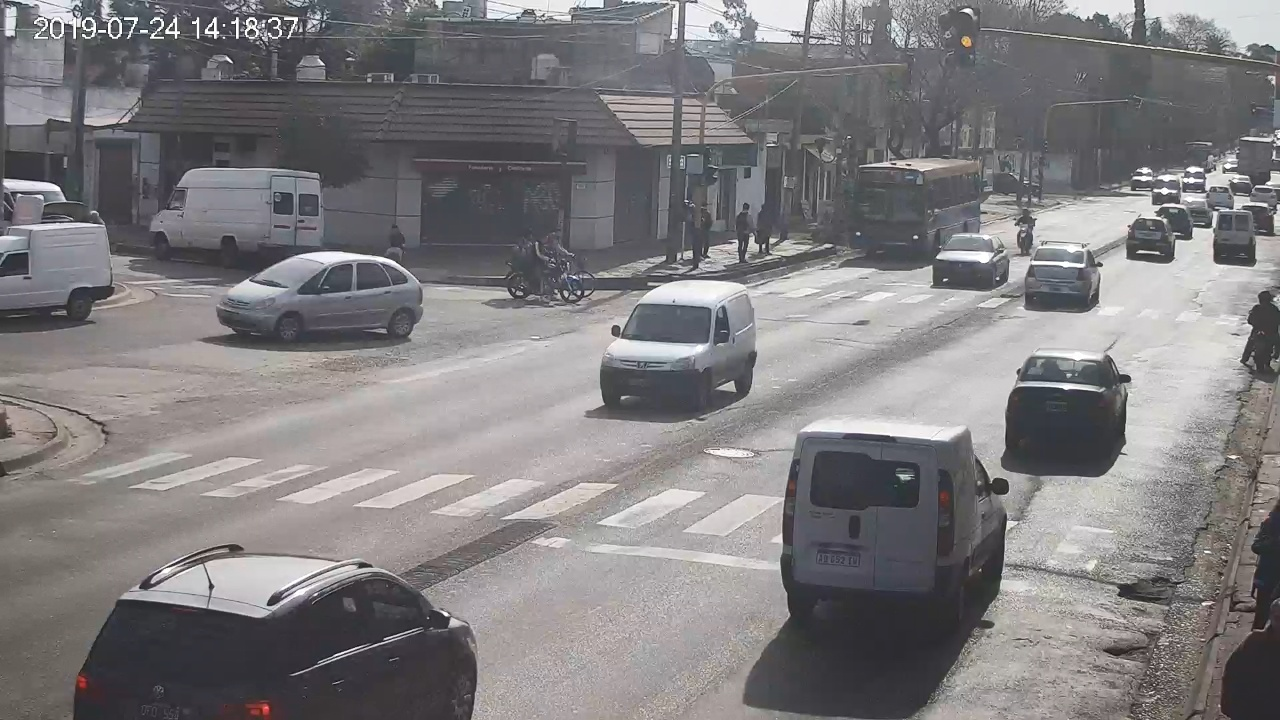car: (75, 544, 477, 720), (781, 415, 1009, 623), (1005, 348, 1132, 451), (1025, 241, 1103, 307)
front car: (600, 281, 758, 410), (216, 251, 424, 338)
motorcycle: (1240, 304, 1280, 372)
traffic light: (957, 5, 979, 66)
